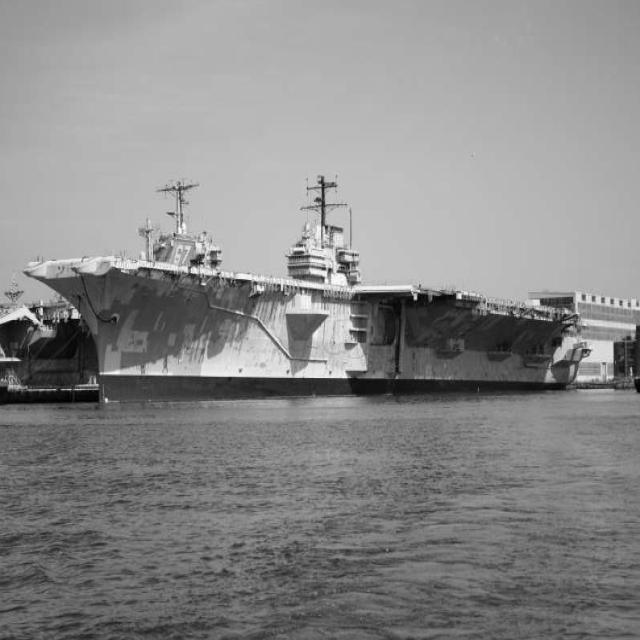Portanaves: (22, 159, 594, 415)
